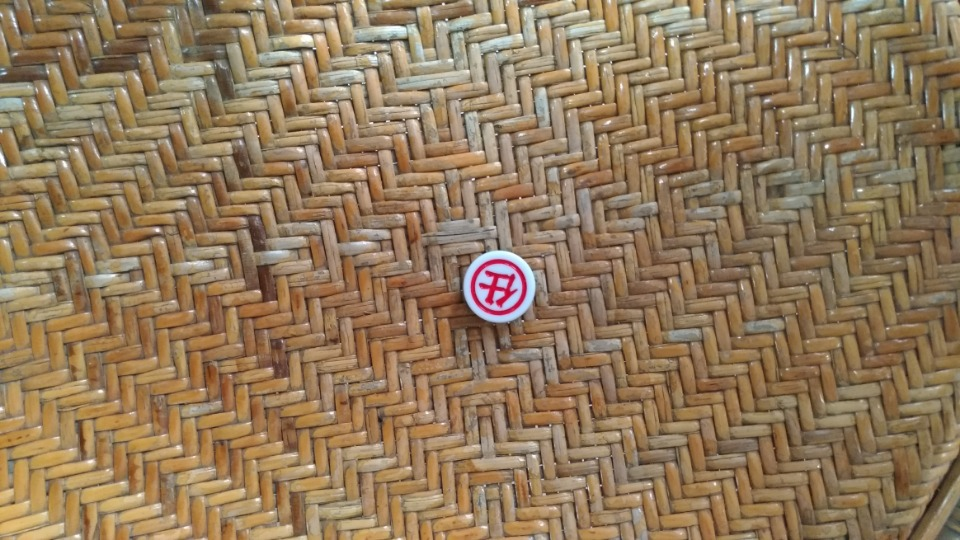r-advisor: (460, 251, 551, 331)
